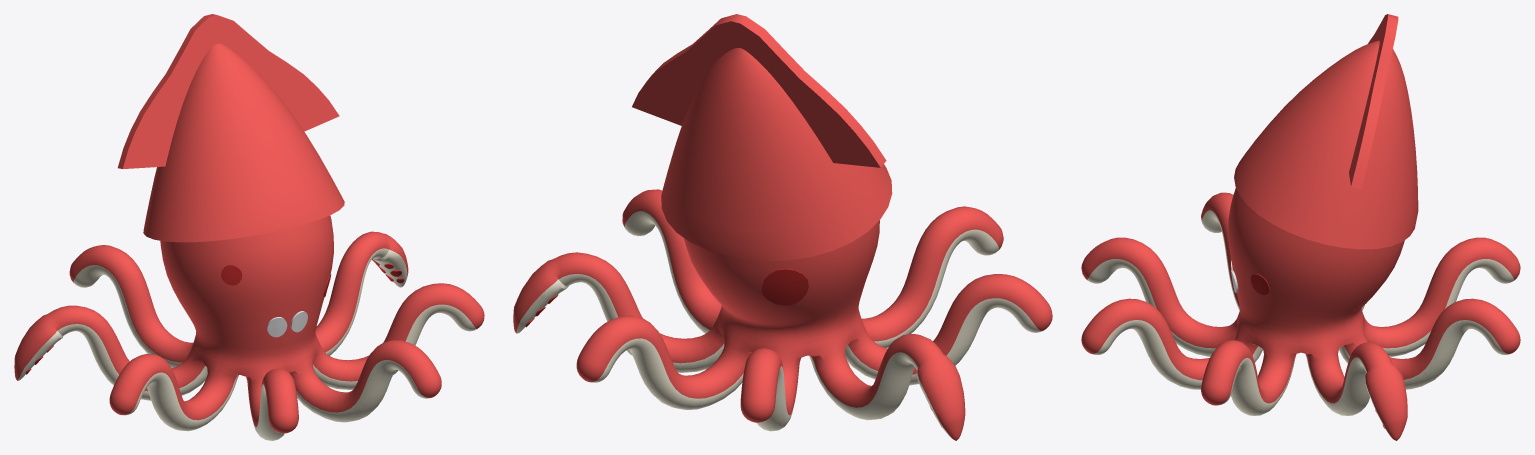
Rendered from squid.gltf.
The picture shows the model from 3 angles, left to right: view 1: azimuth 30°, elevation 25°; view 2: azimuth 150°, elevation 25°; view 3: azimuth 270°, elevation 25°; orthographic projection. The views are drawn at different scales.
Parts seen in each view (by area): view 1: Circle.2102, Cube.190, Plane.185, Circle.2103; view 2: Circle.2102, Cube.190, Plane.185; view 3: Circle.2102, Cube.190.
Part boxes in pixels (bbox=[...]): Circle.2102: bbox=[14, 43, 484, 440]; Cube.190: bbox=[117, 14, 339, 168]; Plane.185: bbox=[25, 259, 404, 374]; Circle.2103: bbox=[267, 311, 307, 337]; Circle.2102: bbox=[513, 48, 1052, 440]; Cube.190: bbox=[632, 14, 886, 167]; Plane.185: bbox=[525, 268, 941, 426]; Circle.2102: bbox=[1081, 40, 1520, 440]; Cube.190: bbox=[1349, 14, 1398, 188].
Bounding box in the file's own units: 2.33 × 1.98 × 2.22.
1 material, 1 textured.
